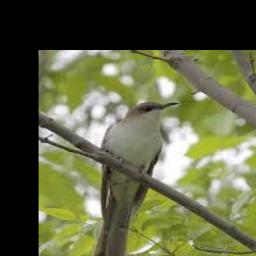Cuckoo: (91, 101, 178, 256)
